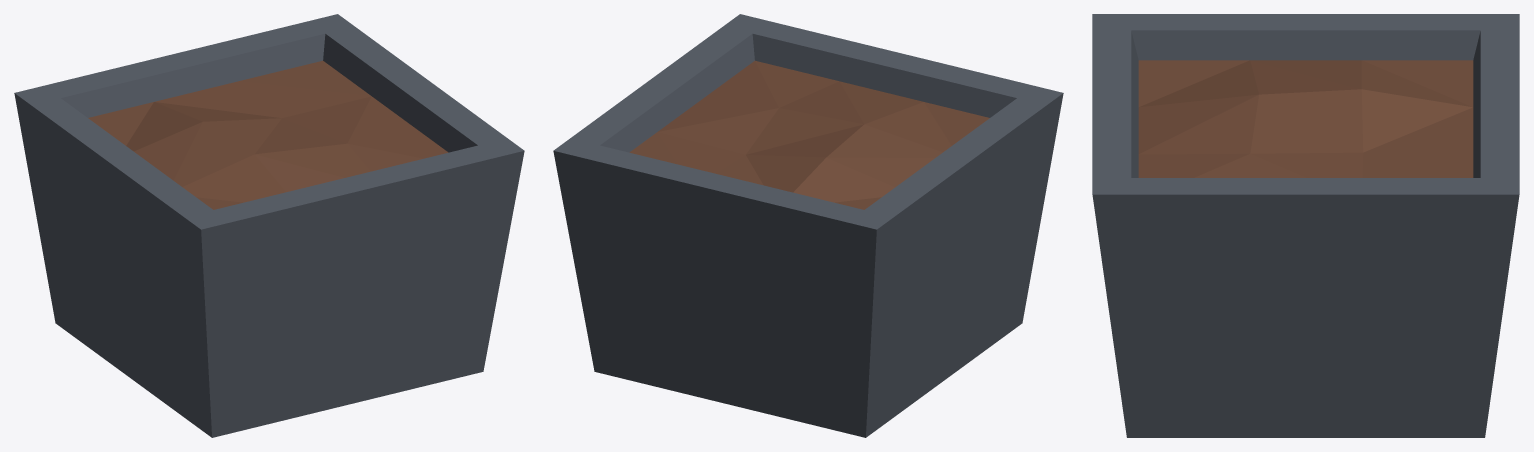
File: Planter1.fbx
3 views of the same model, side by side, from view 1: azimuth 30°, elevation 25°; view 2: azimuth 150°, elevation 25°; view 3: azimuth 270°, elevation 25° (orthographic). The views are drawn at different scales.
Parts seen in each view (by area): view 1: Planter1; view 2: Planter1; view 3: Planter1.
Boxes of the visible parts, bbox=[...] form: Planter1: bbox=[14, 14, 524, 437]; Planter1: bbox=[553, 14, 1063, 437]; Planter1: bbox=[1092, 14, 1519, 437].
Size of the model in its own units: 53.5 by 35.67 by 53.5.
